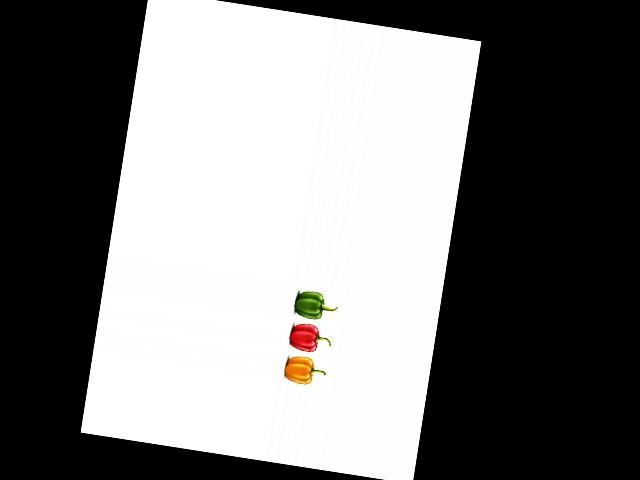bell_pepper: (290, 285, 339, 322)
